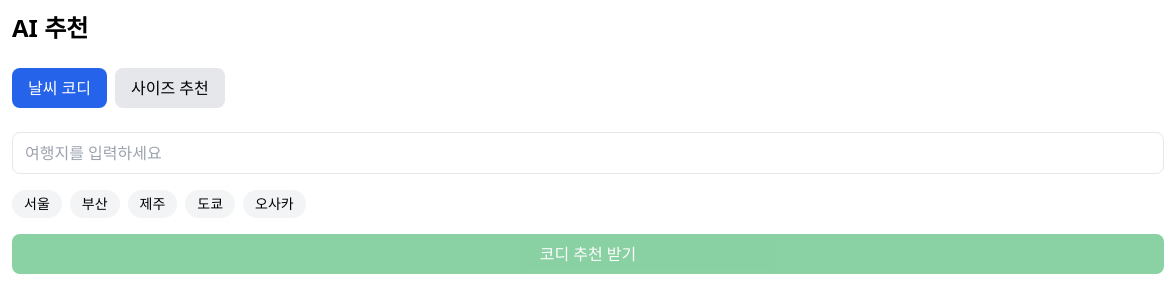
RecommendPage › submit button becomes enabled when city is entered
Type "Tokyo" into the field with test id "recommend-city-input" at (588, 153), box [12,132,1164,174]
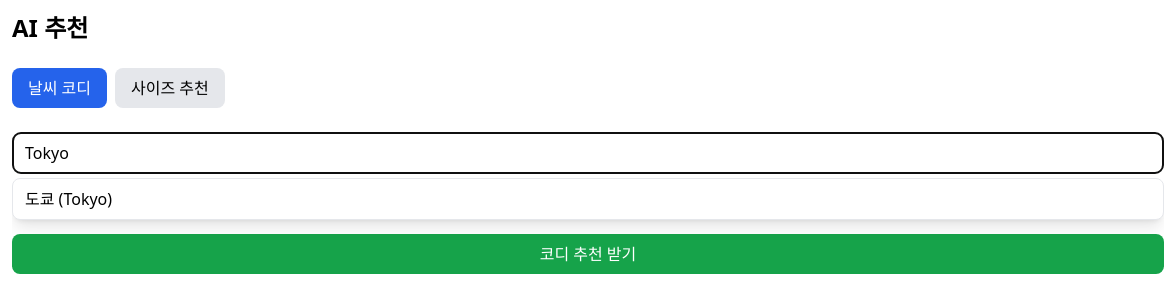
Result: the button with test id "recommend-weather-submit" is enabled at [12,234,1164,274]
